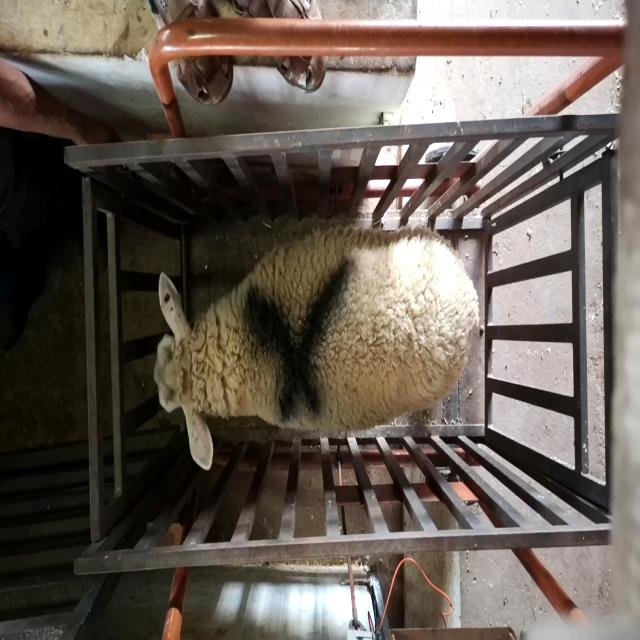sheep: (153, 225, 478, 472)
